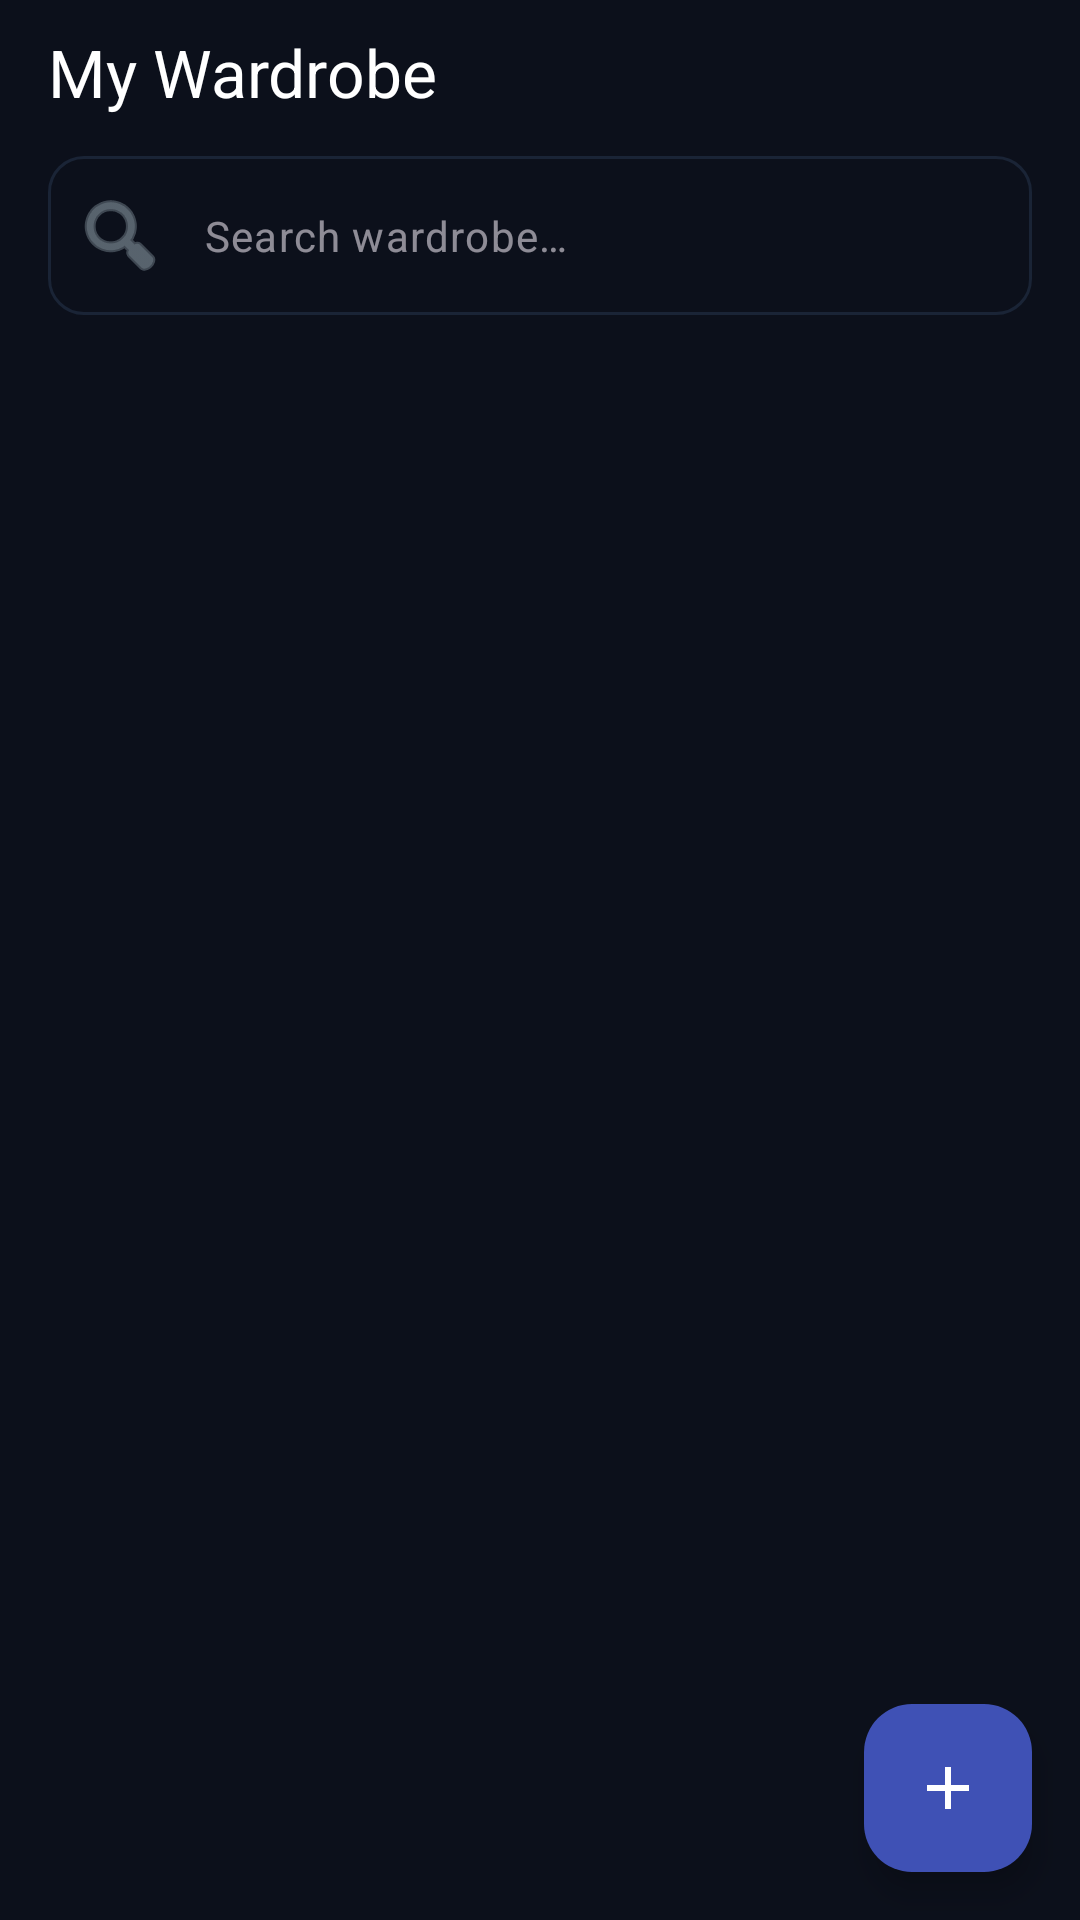

Icon bounding boxes for this 1080px×1920px phone screenshot, format (x1, y1, x2, y2):
Add Item: (864, 1704, 1032, 1872)
